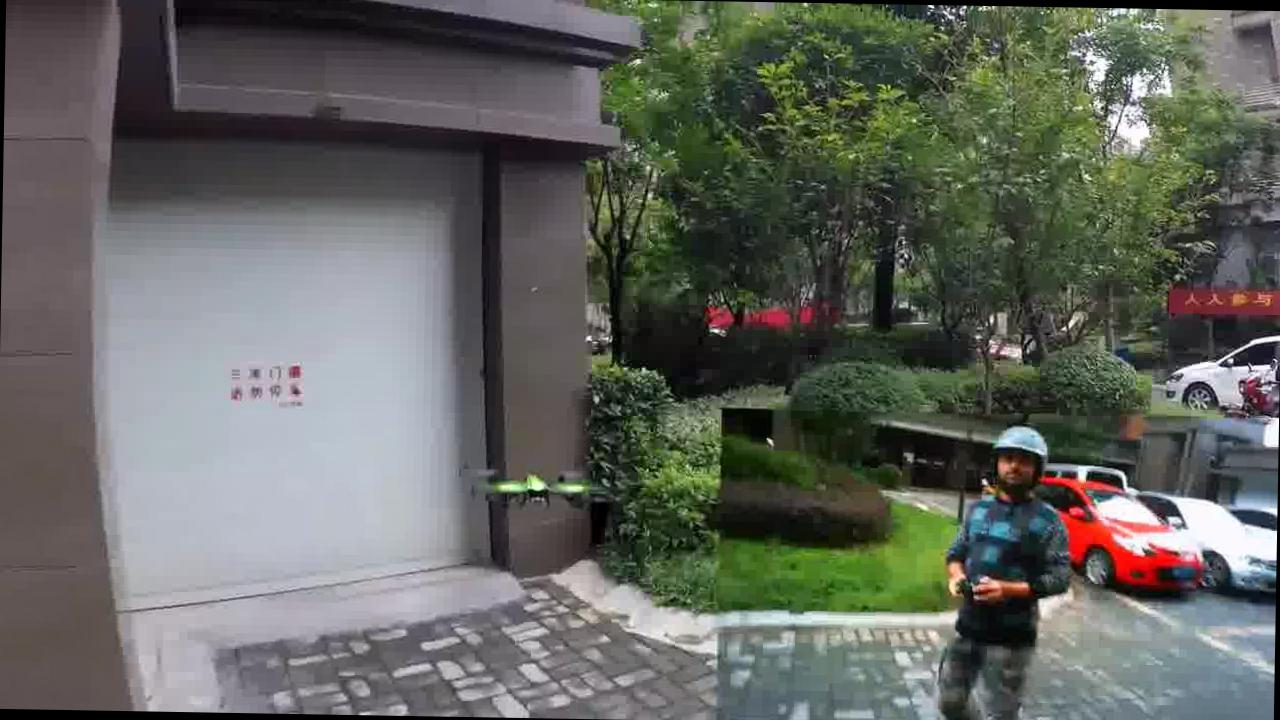drone: (449, 457, 625, 520)
